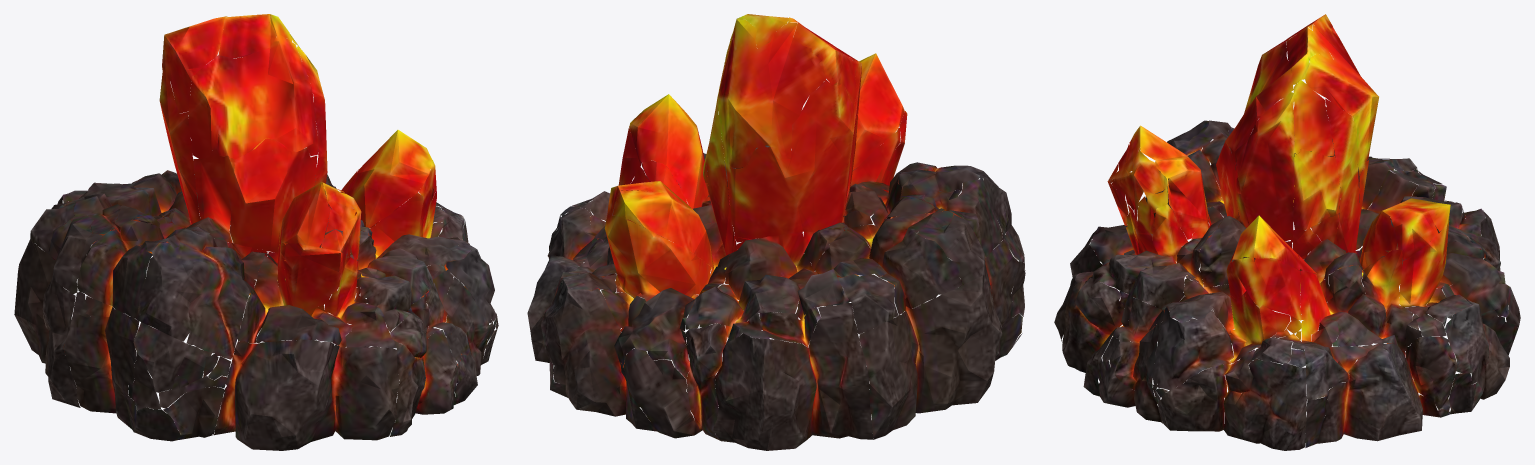
Rendered from mine-plasma.glb.
The picture shows the model from 3 angles, left to right: view 1: azimuth 30°, elevation 25°; view 2: azimuth 150°, elevation 25°; view 3: azimuth 270°, elevation 25°; orthographic projection. The views are drawn at different scales.
Visible parts, largest first — view 1: mine-plasma-body; view 2: mine-plasma-body; view 3: mine-plasma-body.
Boxes of the visible parts, x1,y1,x2,y2 form: mine-plasma-body: [14, 14, 498, 450]; mine-plasma-body: [527, 14, 1025, 450]; mine-plasma-body: [1054, 14, 1520, 450].
Bounding box in the file's own units: 1 × 0.7504 × 0.9994.
1 material, 1 textured.
